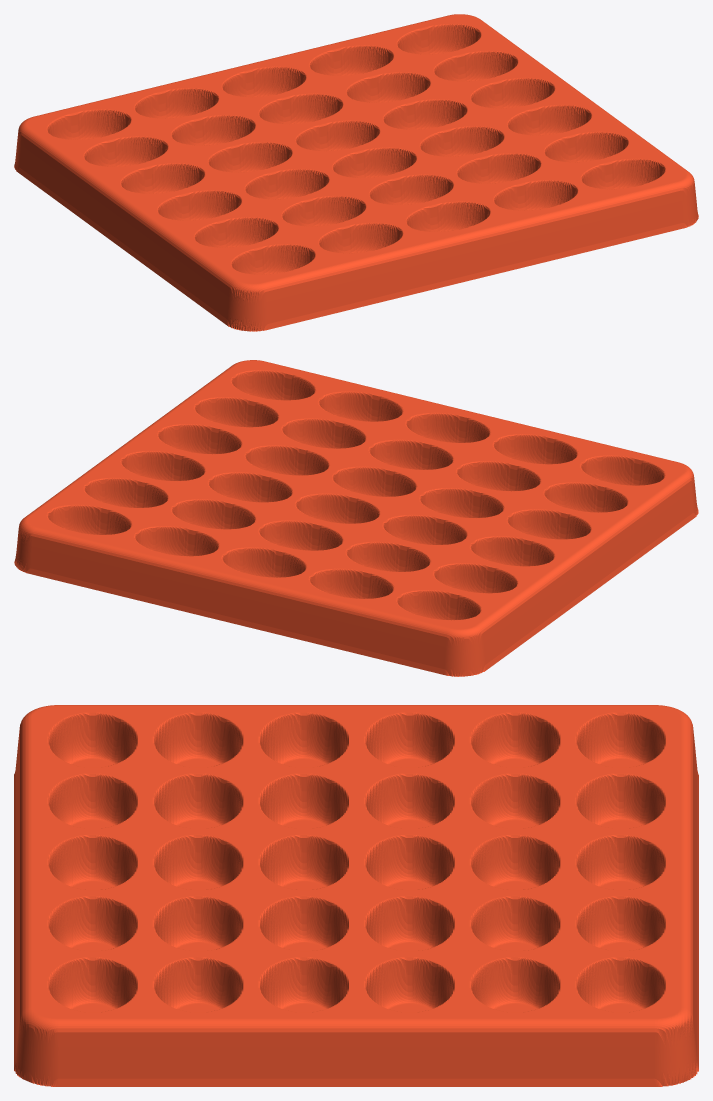
The model's file is mold.glb.
The picture shows the model from 3 angles, top to bottom: view 1: azimuth 30°, elevation 25°; view 2: azimuth 150°, elevation 25°; view 3: azimuth 270°, elevation 25°; orthographic projection. The views are drawn at different scales.
Visible parts, largest first — view 1: geometry_0; view 2: geometry_0; view 3: geometry_0.
Part boxes in pixels (x1,y1,x2,y2): geometry_0: (14,14,698,331); geometry_0: (14,360,698,676); geometry_0: (14,705,698,1086).
Size of the model in its own units: 0.1581 by 0.0136 by 0.1397.
